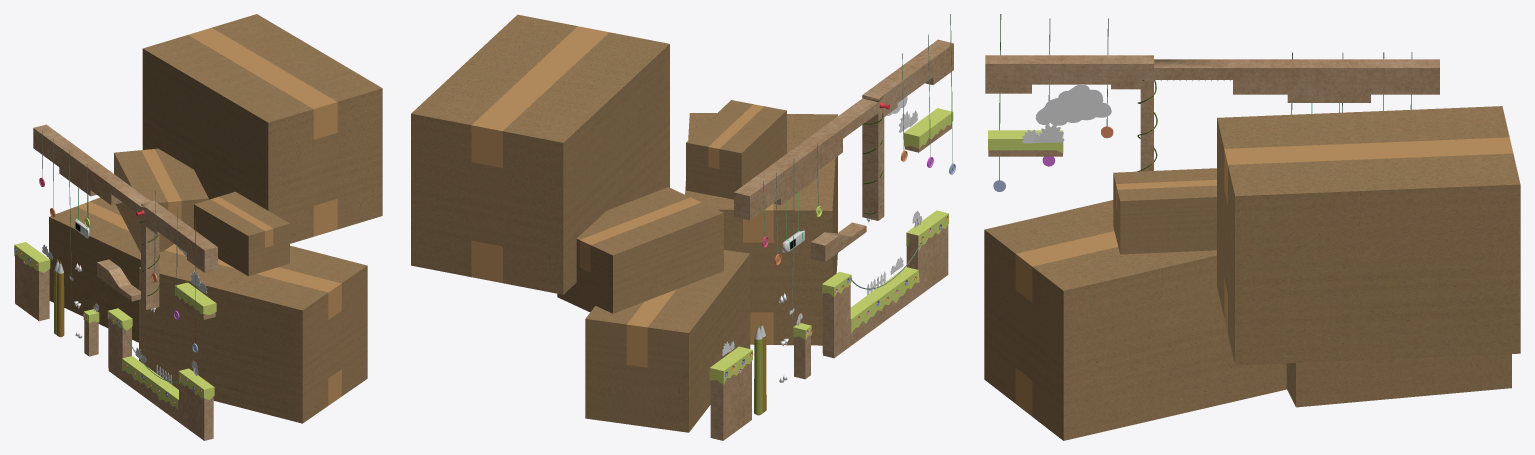
The model's file is PF-Pantalla _8.DEF.fbx.
3 renders of one model, left to right at view 1: azimuth 30°, elevation 25°; view 2: azimuth 150°, elevation 25°; view 3: azimuth 270°, elevation 25°, orthographic. The views are drawn at different scales.
Visible parts, largest first — view 1: Caja_1.001, Caja_1, Techo/Suelo.005, Cube.013, Cube.017, Techo/Suelo.003, Cube.014, Techo/Suelo.001, Cola.003, Techo/Suelo.002; view 2: Caja_1.001, Cube.013, Cube.014, Caja_1, Techo/Suelo.005, Techo/Suelo.003, Cube.017, Techo/Suelo.001, Cola.003, Techo/Suelo.002; view 3: Caja_1.001, Caja_1, Techo/Suelo.005, Cube.013, Cube.017, Nube.004, Techo/Suelo.002, Plane.089.
Part boxes in pixels (bbox=[...]): Caja_1.001: bbox=[142, 14, 382, 243]; Caja_1: bbox=[139, 244, 367, 423]; Techo/Suelo.005: bbox=[33, 124, 217, 319]; Cube.013: bbox=[49, 197, 162, 342]; Cube.017: bbox=[194, 191, 289, 276]; Techo/Suelo.003: bbox=[15, 254, 213, 440]; Cube.014: bbox=[114, 148, 208, 252]; Techo/Suelo.001: bbox=[14, 242, 214, 409]; Cola.003: bbox=[54, 259, 64, 337]; Techo/Suelo.002: bbox=[175, 282, 216, 314]; Caja_1.001: bbox=[411, 14, 669, 294]; Cube.013: bbox=[585, 250, 750, 432]; Cube.014: bbox=[557, 187, 723, 313]; Caja_1: bbox=[685, 113, 837, 345]; Techo/Suelo.005: bbox=[734, 39, 953, 261]; Techo/Suelo.003: bbox=[710, 225, 948, 440]; Cube.017: bbox=[686, 100, 786, 199]; Techo/Suelo.001: bbox=[709, 210, 948, 384]; Cola.003: bbox=[754, 322, 766, 415]; Techo/Suelo.002: bbox=[904, 108, 953, 148]; Caja_1.001: bbox=[1217, 106, 1520, 365]; Caja_1: bbox=[984, 200, 1286, 440]; Techo/Suelo.005: bbox=[985, 55, 1439, 171]; Cube.013: bbox=[1286, 354, 1511, 407]; Cube.017: bbox=[1113, 168, 1216, 254]; Nube.004: bbox=[1035, 84, 1111, 125]; Techo/Suelo.002: bbox=[988, 130, 1063, 153]; Plane.089: bbox=[1022, 124, 1064, 143].
Size of the model in its own units: 6795 by 5341 by 8533.
